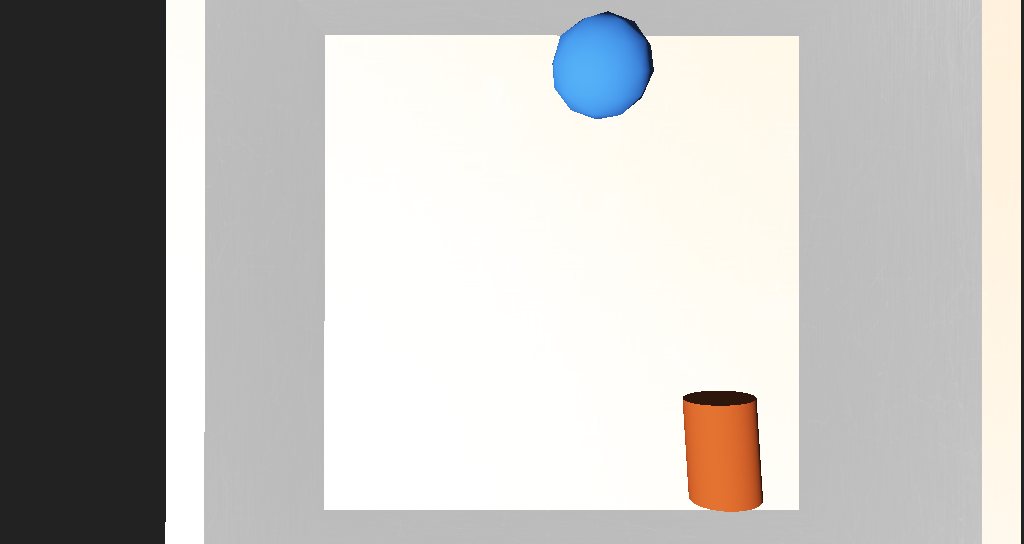cone: (579, 322, 633, 375)
cylinder: (377, 0, 472, 67)
sphere: (502, 160, 563, 203)
